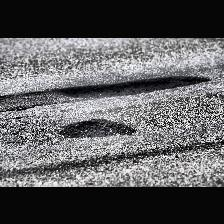pothole: (57, 75, 211, 98), (58, 118, 136, 138)
